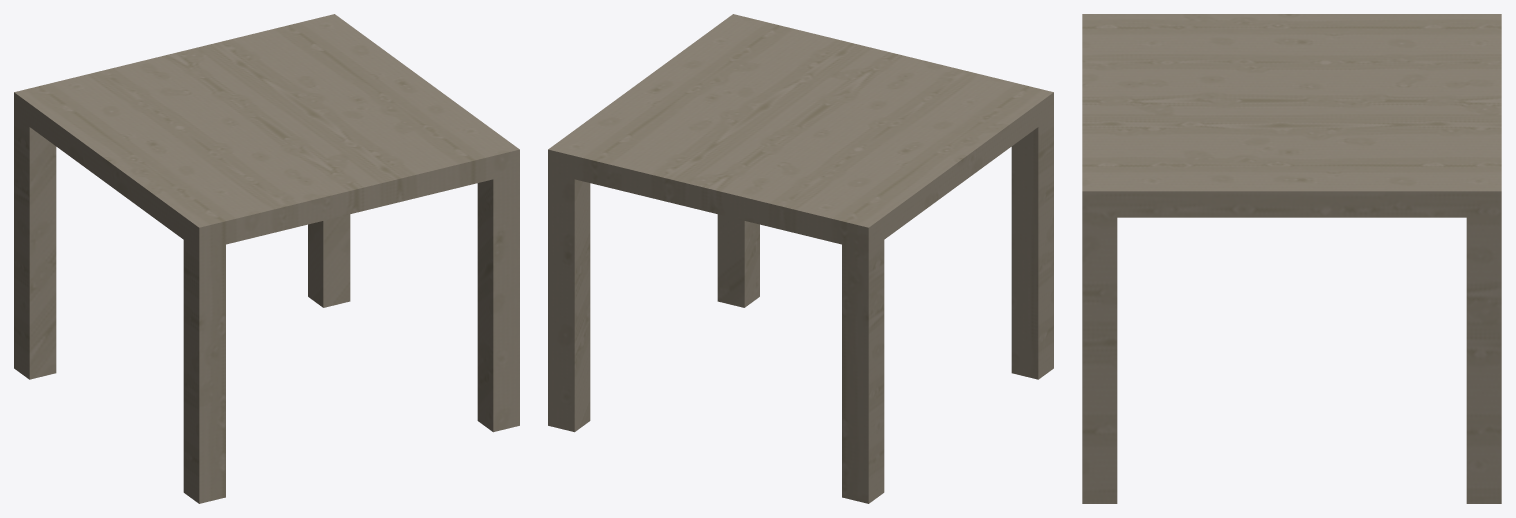
The model's file is Lunch_Table_Office_A.fbx.
The picture shows the model from 3 angles, left to right: view 1: azimuth 30°, elevation 25°; view 2: azimuth 150°, elevation 25°; view 3: azimuth 270°, elevation 25°; orthographic projection. The views are drawn at different scales.
Parts seen in each view (by area): view 1: Lunch_table.001; view 2: Lunch_table.001; view 3: Lunch_table.001.
Part boxes in pixels (<box>): Lunch_table.001: <box>14,14,519,503</box>; Lunch_table.001: <box>548,14,1053,503</box>; Lunch_table.001: <box>1082,14,1501,503</box>.
Bounding box in the file's own units: 120 × 98.76 × 120.
